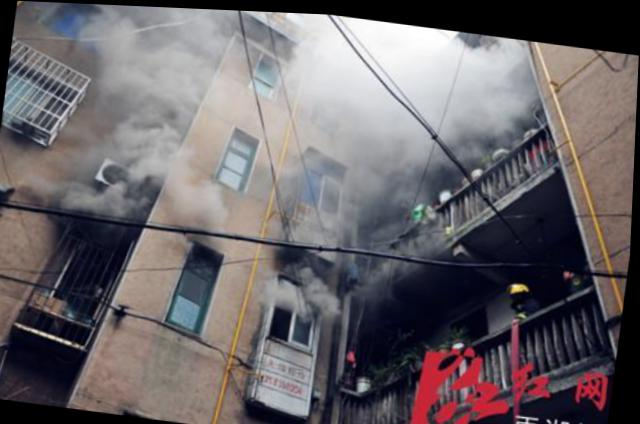smoke: (289, 10, 531, 168), (75, 10, 214, 106), (110, 97, 188, 180), (35, 168, 133, 227), (259, 259, 350, 322)
